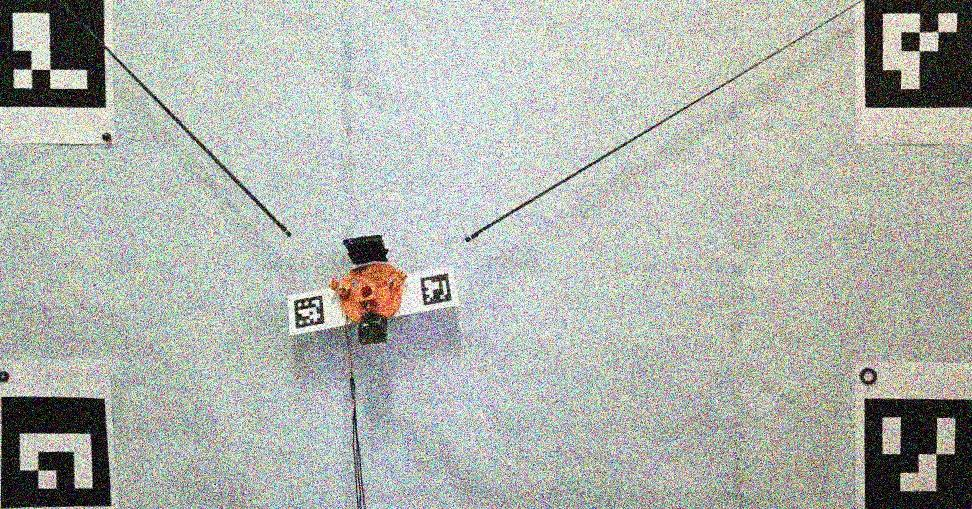robot: (328, 235, 407, 346)
